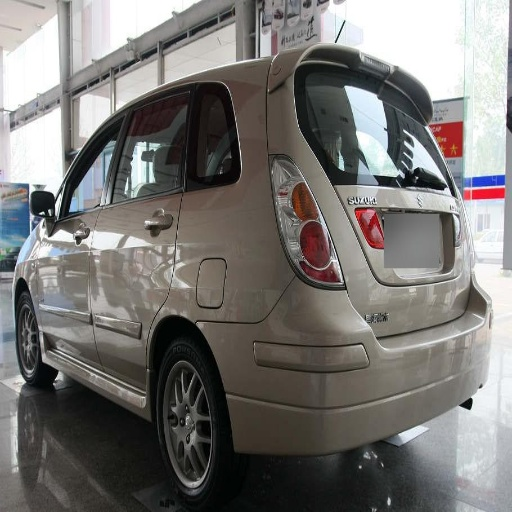back_bumper: (213, 280, 491, 449)
back_glass: (317, 75, 446, 186)
back_left_door: (96, 89, 222, 385)
back_left_light: (277, 189, 343, 286)
tailgate: (310, 185, 459, 321)
trunk: (350, 188, 462, 255), (353, 268, 466, 333)
